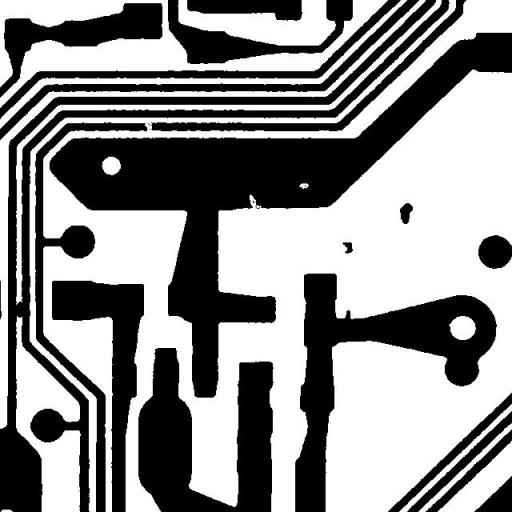copper: (392, 195, 420, 231), (334, 234, 360, 261)
mousebite: (242, 186, 268, 217)
open: (137, 114, 159, 142)
pin-hole: (291, 175, 316, 196)
short: (6, 294, 30, 324)
spur: (336, 302, 359, 332)
